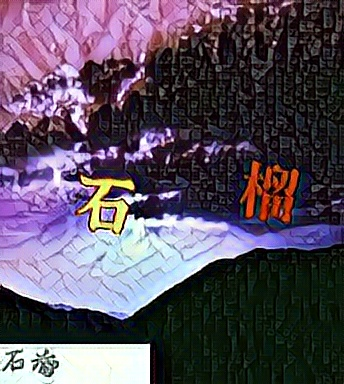C1F1: (234, 159, 299, 223)
CAAF: (73, 171, 138, 235)
